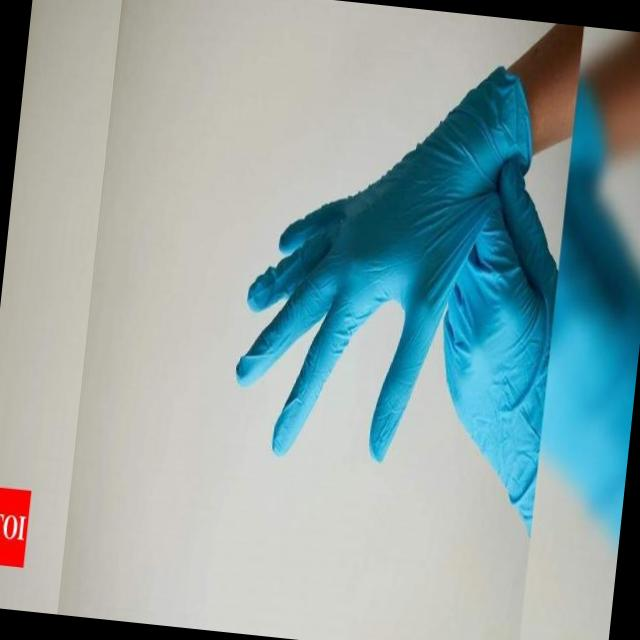Gloves: (226, 5, 531, 478), (422, 142, 566, 554)
